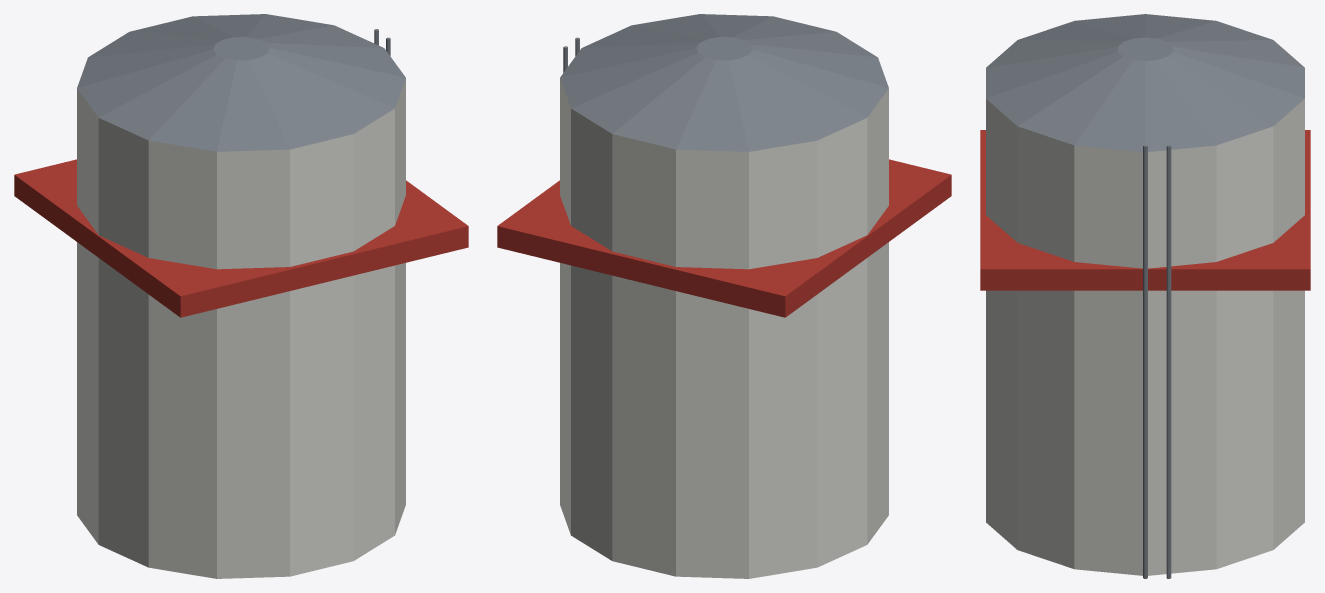
The model's file is silo.glb.
3 views of the same model, side by side, from view 1: azimuth 30°, elevation 25°; view 2: azimuth 150°, elevation 25°; view 3: azimuth 270°, elevation 25° (orthographic).
Visible parts, largest first — view 1: silo_Body; view 2: silo_Body; view 3: silo_Body.
Boxes of the visible parts, x1=… form: silo_Body: x1=14, y1=14, x2=468, y2=578; silo_Body: x1=497, y1=14, x2=951, y2=578; silo_Body: x1=980, y1=14, x2=1310, y2=578.
Bounding box in the file's own units: 7.17 × 10.8 × 7.06.
